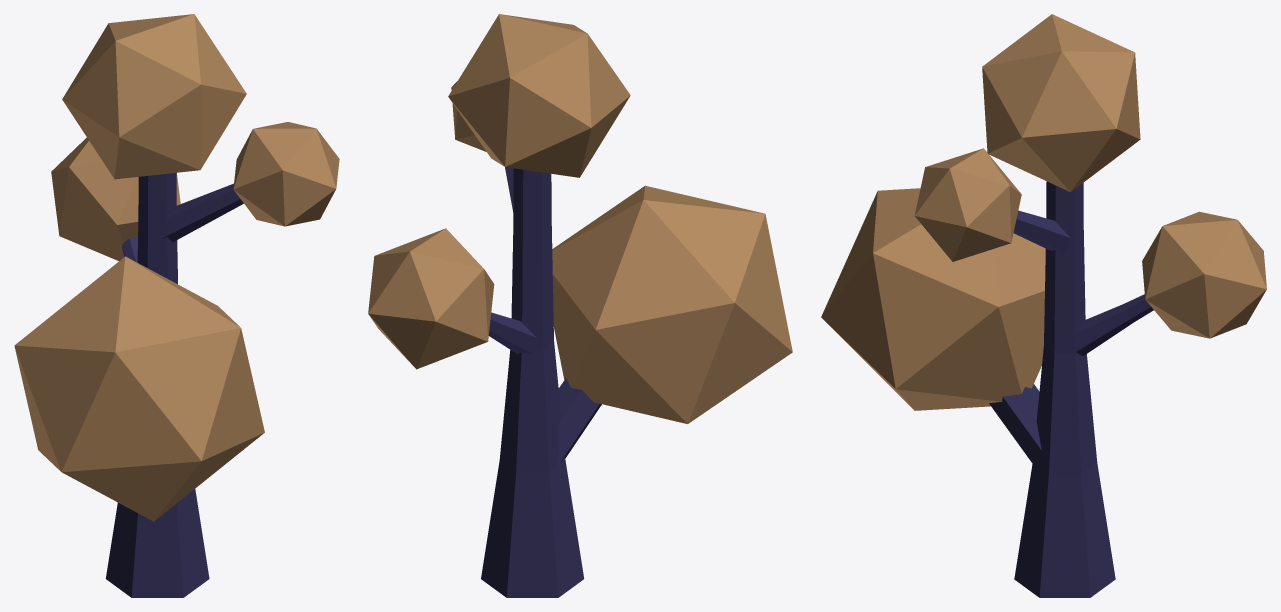
3 views of the same model, side by side, from view 1: azimuth 30°, elevation 25°; view 2: azimuth 150°, elevation 25°; view 3: azimuth 270°, elevation 25° (orthographic). The views are drawn at different scales.
Visible parts, largest first — view 1: Cylinder; view 2: Cylinder; view 3: Cylinder.
Part boxes in pixels (x1,y1,x2,y2): Cylinder: (14,14,339,597); Cylinder: (368,14,792,597); Cylinder: (821,14,1266,597).
Size of the model in its own units: 3.21 by 4.09 by 5.52.
